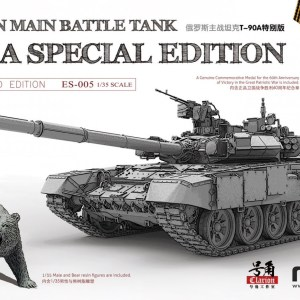Battle Tank: (38, 98, 300, 257)
